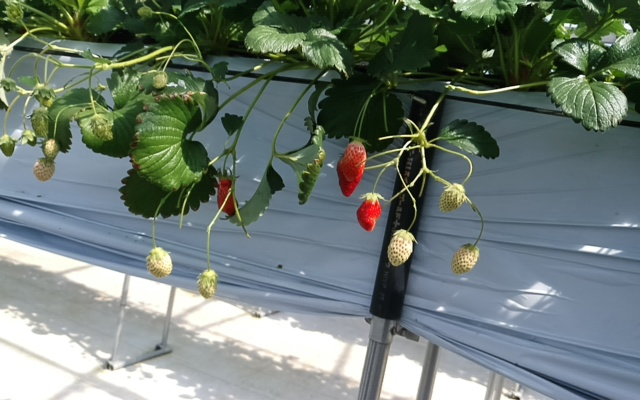GreenStrawberry: (387, 228, 413, 268), (144, 246, 174, 280), (450, 242, 480, 276), (438, 182, 466, 214), (196, 269, 220, 301), (32, 156, 57, 183), (43, 139, 59, 160), (1, 137, 16, 156), (152, 71, 167, 89)
MatureStrawberry: (336, 140, 366, 198), (354, 195, 383, 233), (217, 177, 235, 216)
